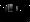person: (6, 6, 13, 16), (16, 4, 22, 15)
